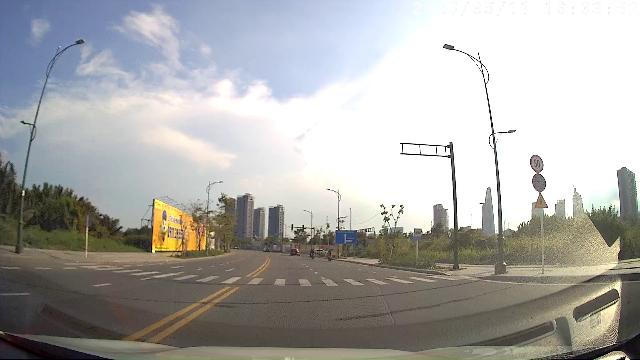127-toc-do-toi-da-50: (530, 155, 544, 173)
